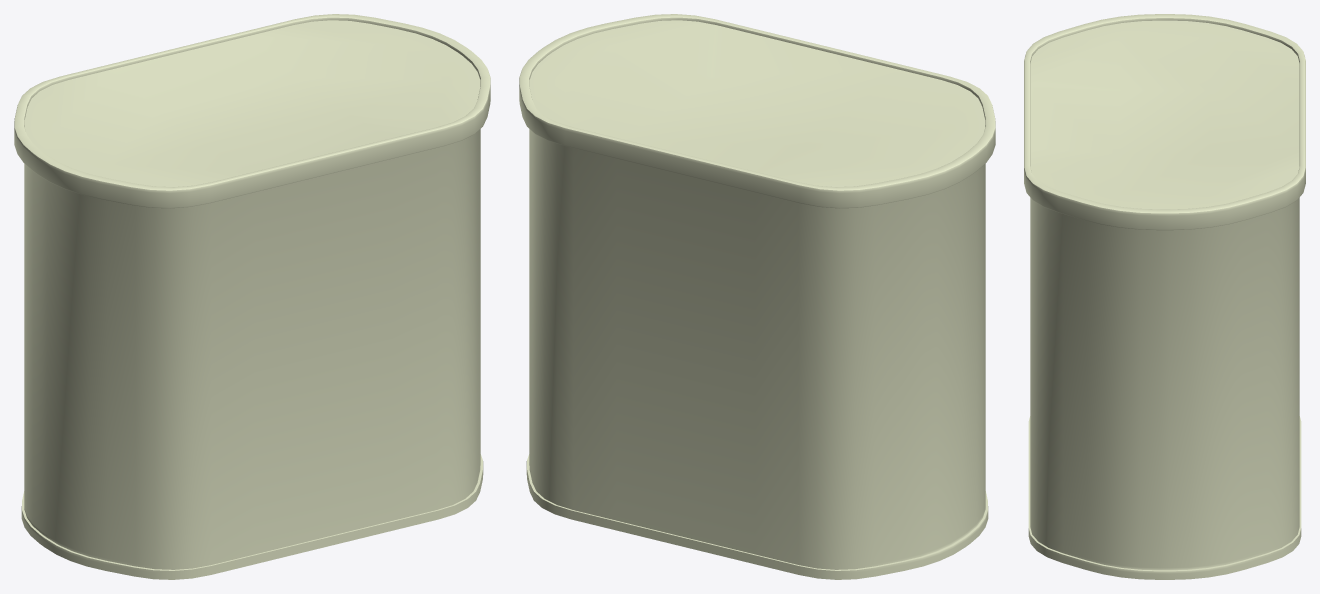
The model's file is spam.glb.
The picture shows the model from 3 angles, left to right: view 1: azimuth 30°, elevation 25°; view 2: azimuth 150°, elevation 25°; view 3: azimuth 270°, elevation 25°; orthographic projection. The views are drawn at different scales.
Parts seen in each view (by area): view 1: spam; view 2: spam; view 3: spam.
Boxes of the visible parts, x1,y1,x2,y2 form: spam: (14,14,490,579); spam: (519,14,995,579); spam: (1024,14,1305,579).
Bounding box in the file's own units: 1.34 × 1.16 × 0.7989.
